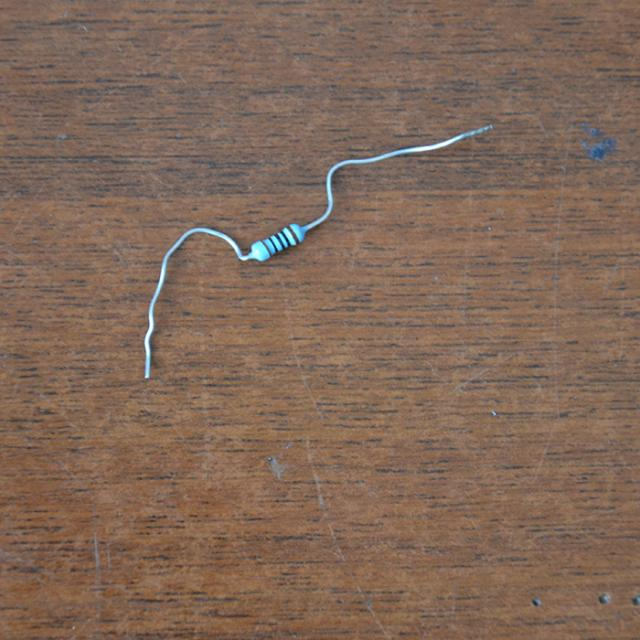Resistor Carbon-Film: (246, 219, 310, 265)
